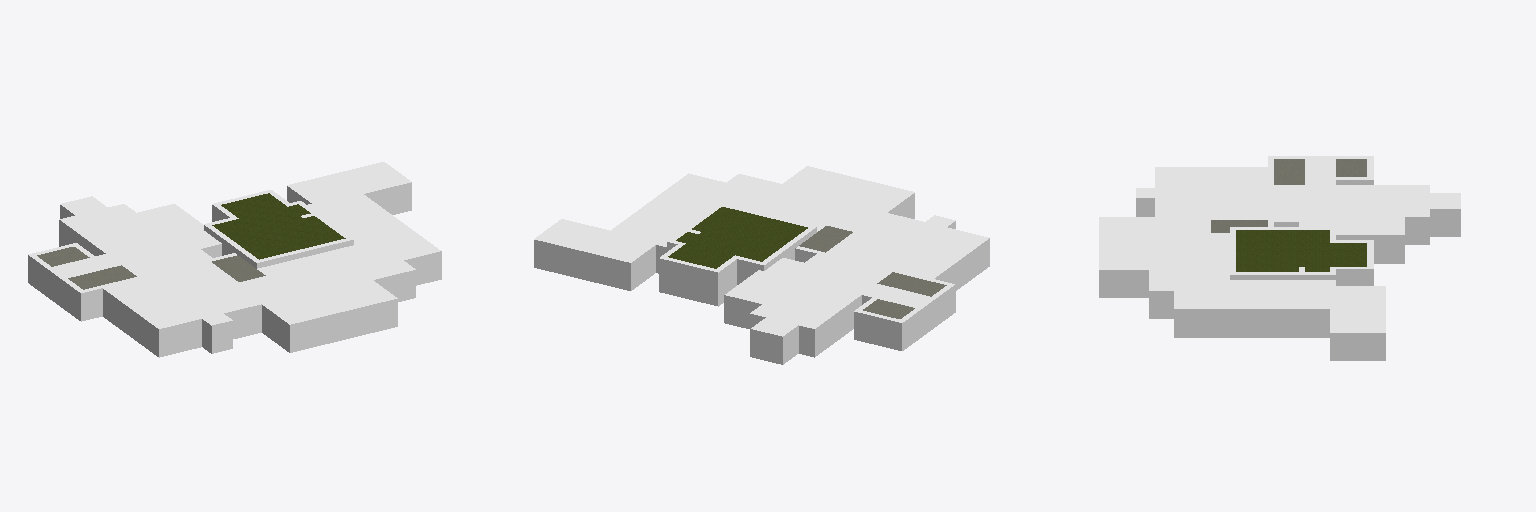
3 renders of one model, left to right at view 1: azimuth 30°, elevation 25°; view 2: azimuth 150°, elevation 25°; view 3: azimuth 270°, elevation 25°, orthographic.
Visible parts, largest first — view 1: Zombie_Exodus_Maps__164_4_188_to_240_255_253; view 2: Zombie_Exodus_Maps__164_4_188_to_240_255_253; view 3: Zombie_Exodus_Maps__164_4_188_to_240_255_253.
Part boxes in pixels (x1,y1,x2,y2): Zombie_Exodus_Maps__164_4_188_to_240_255_253: (28,162,441,357); Zombie_Exodus_Maps__164_4_188_to_240_255_253: (534,166,989,364); Zombie_Exodus_Maps__164_4_188_to_240_255_253: (1099,156,1460,360).
Size of the model in its own units: 67 by 6 by 58.
Materials: 10 (2 with a texture image).